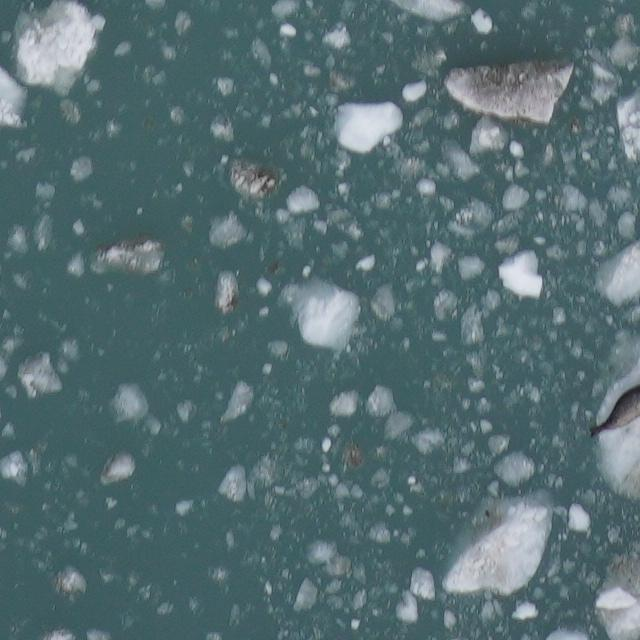seal: (586, 383, 640, 439)
